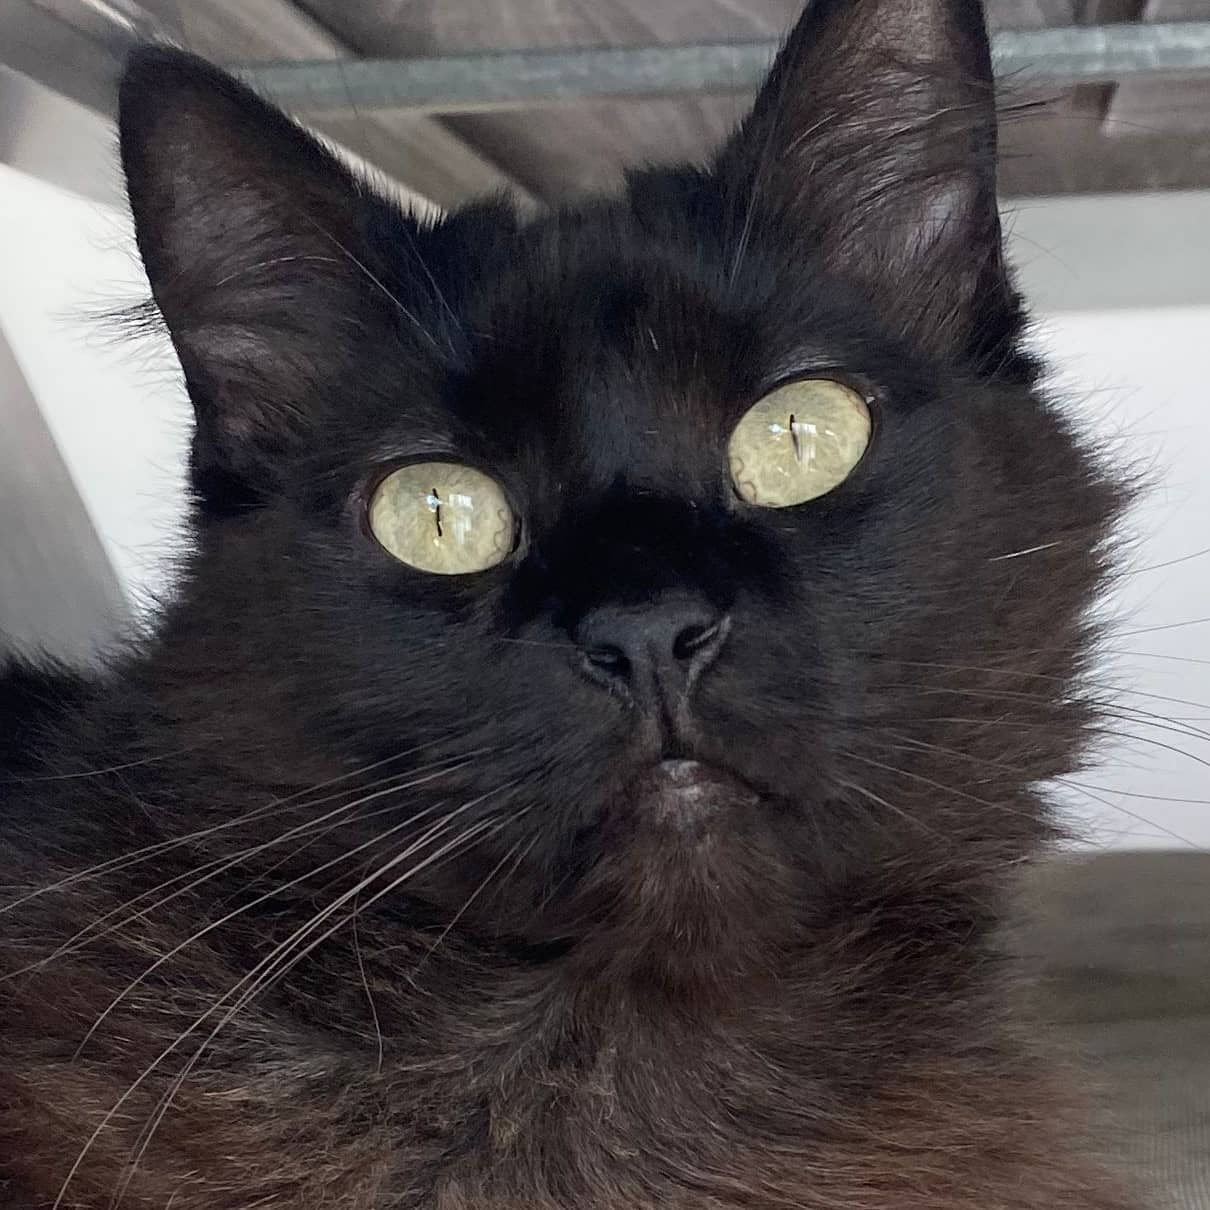cat: (16, 20, 1091, 1190)
